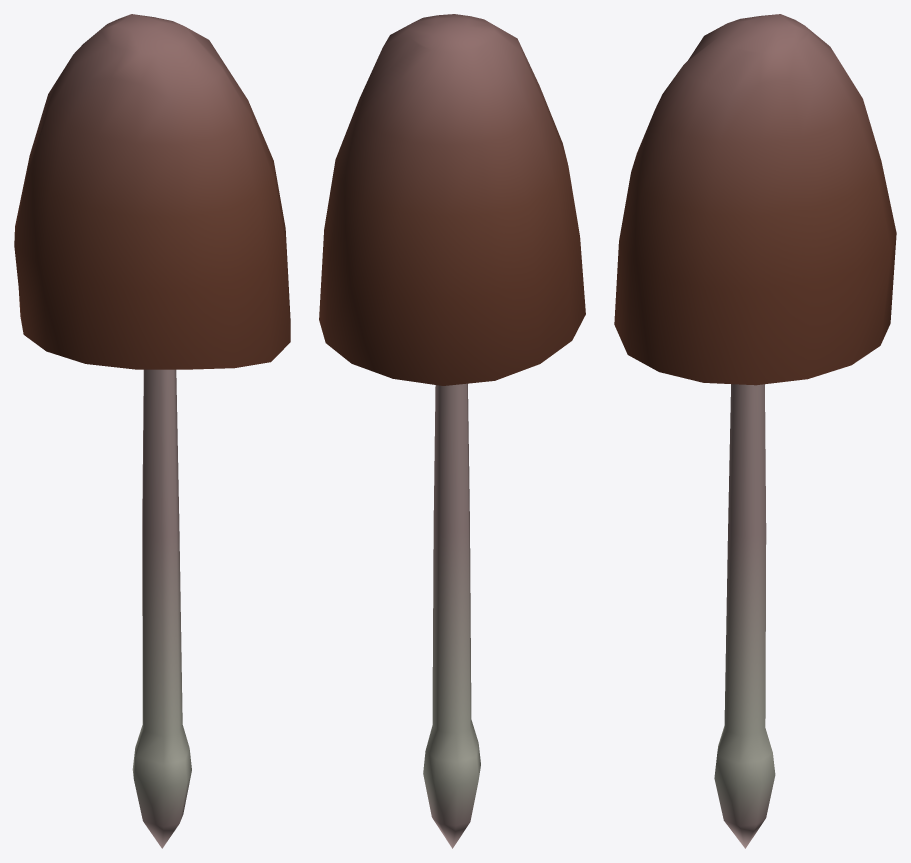
Rendered from plants-mushrooms-cone-mushroom_v1.glb.
3 renders of one model, left to right at view 1: azimuth 30°, elevation 25°; view 2: azimuth 150°, elevation 25°; view 3: azimuth 270°, elevation 25°, orthographic.
Parts seen in each view (by area): view 1: Cone Mushroom_v1; view 2: Cone Mushroom_v1; view 3: Cone Mushroom_v1.
Boxes of the visible parts, box(x1,y1,x2,y2) form: Cone Mushroom_v1: box(14, 14, 290, 848); Cone Mushroom_v1: box(319, 14, 585, 848); Cone Mushroom_v1: box(614, 14, 896, 848).
Size of the model in its own units: 0.0351 by 0.12 by 0.0374.
